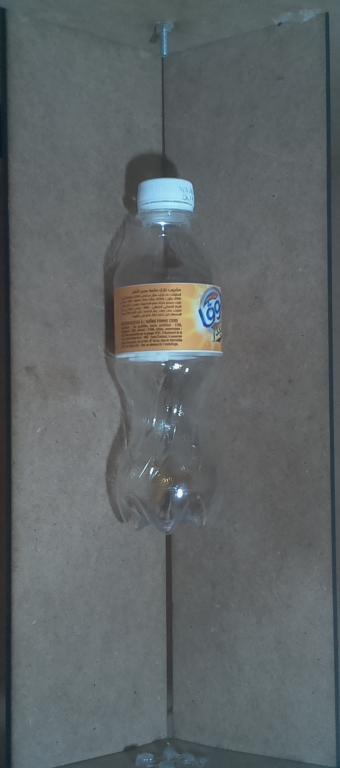Bouteille_0.3L: (100, 169, 235, 540)
